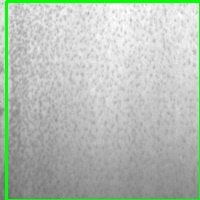pitted_surface: (7, 1, 200, 200)
